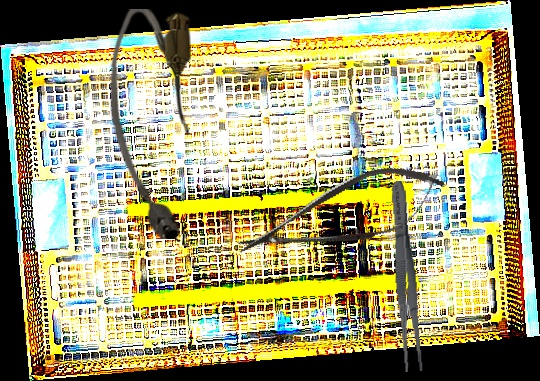Cannula: (108, 7, 195, 241)
Dressing Forceps: (385, 180, 427, 373)
Micro Scissor: (228, 150, 454, 280)
